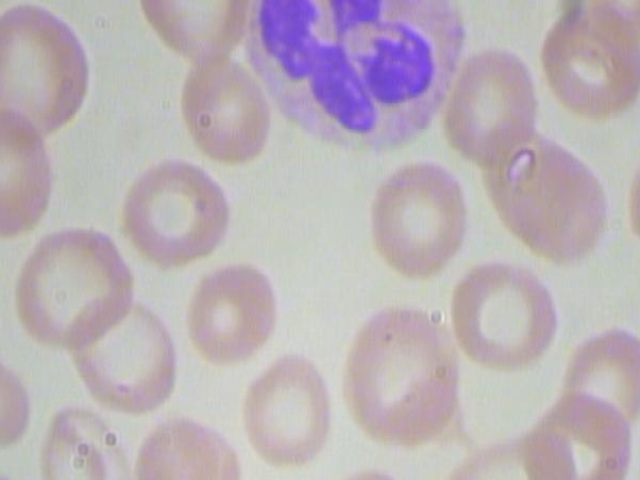RBC: (337, 301, 470, 454), (433, 253, 568, 381), (347, 156, 469, 296), (7, 219, 133, 347), (114, 151, 240, 276), (174, 41, 284, 172), (174, 255, 290, 368), (531, 0, 640, 120), (176, 258, 292, 370), (236, 346, 334, 471), (0, 5, 96, 132), (446, 42, 537, 169), (0, 104, 72, 239), (136, 0, 254, 64)
WBC: (242, 0, 473, 154)
